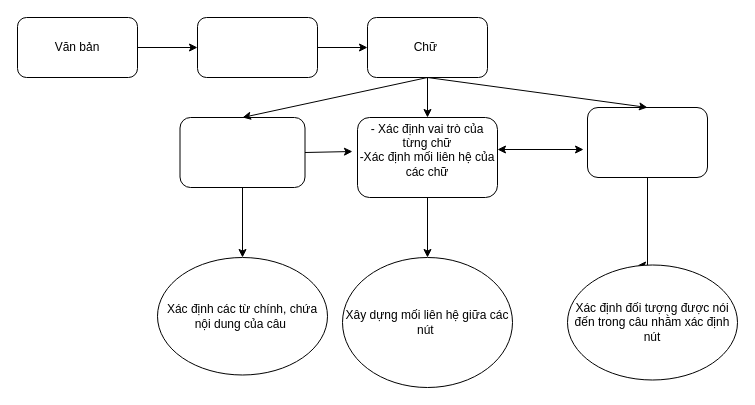
Image size: 755x405. Some labels were removed from this diagram. The shapes that lost their labels are listed below. From the top down, each one's box as (x1, y1, x2, y2) in pixels, then its label:
(196, 16, 318, 78): Câu
(179, 116, 305, 188): Xử lí các từ, loại bỏ bớt các từ loại
(586, 106, 708, 178): Xác định danh từ chính
